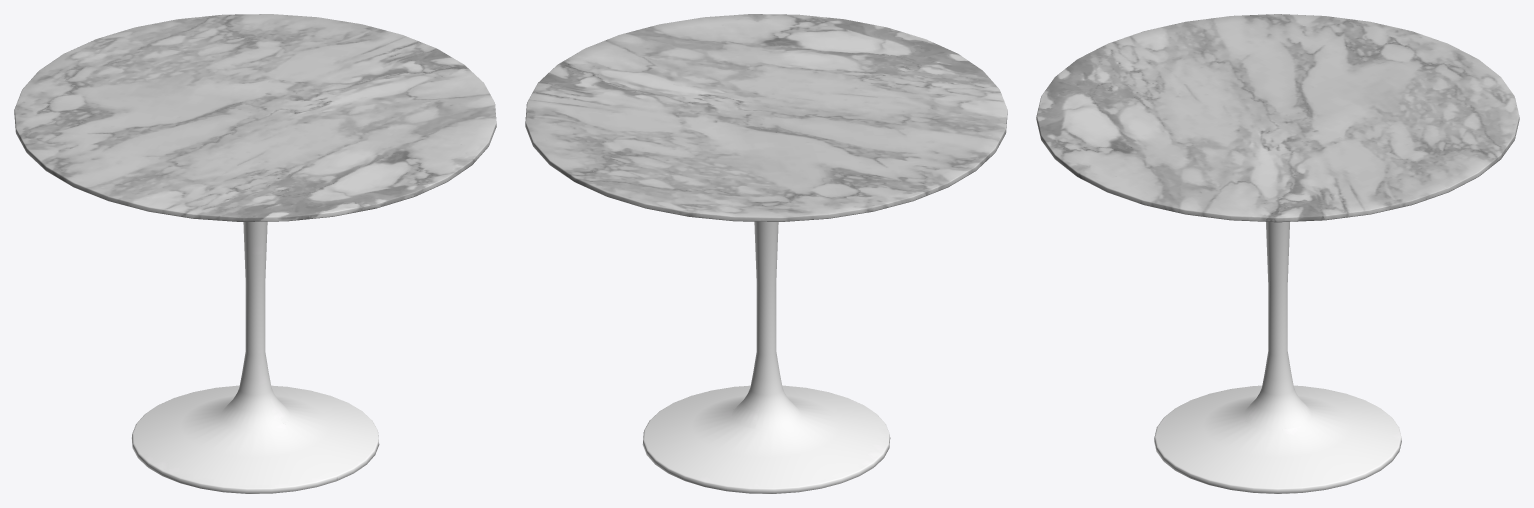
Rendered from diningTelma.glb.
3 renders of one model, left to right at view 1: azimuth 30°, elevation 25°; view 2: azimuth 150°, elevation 25°; view 3: azimuth 270°, elevation 25°, orthographic.
Visible parts, largest first — view 1: top, leg; view 2: top, leg; view 3: top, leg.
Boxes of the visible parts, <box> form: top: <box>14,14,496,221</box>; leg: <box>131,221,379,493</box>; top: <box>525,14,1007,221</box>; leg: <box>642,221,890,493</box>; top: <box>1036,14,1519,222</box>; leg: <box>1154,222,1401,493</box>.
Size of the model in its own units: 1.02 by 0.7571 by 1.02.
4 materials, 4 textured.
